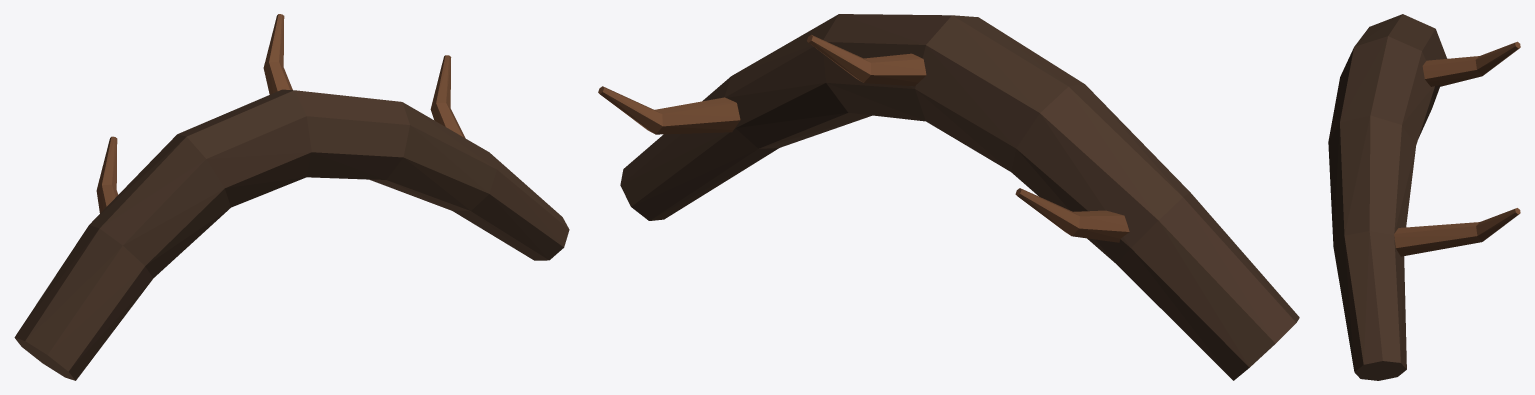
The model's file is Prop_Common_ArchingDeadTrunk_001.glb.
3 views of the same model, side by side, from view 1: azimuth 30°, elevation 25°; view 2: azimuth 150°, elevation 25°; view 3: azimuth 270°, elevation 25° (orthographic). The views are drawn at different scales.
Visible parts, largest first — view 1: Prop_Common_ArchingDeadTrunk_001; view 2: Prop_Common_ArchingDeadTrunk_001; view 3: Prop_Common_ArchingDeadTrunk_001.
Part boxes in pixels (bbox=[...]): Prop_Common_ArchingDeadTrunk_001: bbox=[14, 14, 569, 380]; Prop_Common_ArchingDeadTrunk_001: bbox=[598, 14, 1299, 380]; Prop_Common_ArchingDeadTrunk_001: bbox=[1328, 14, 1520, 380].
Size of the model in its own units: 4.3 by 1.91 by 1.31.
